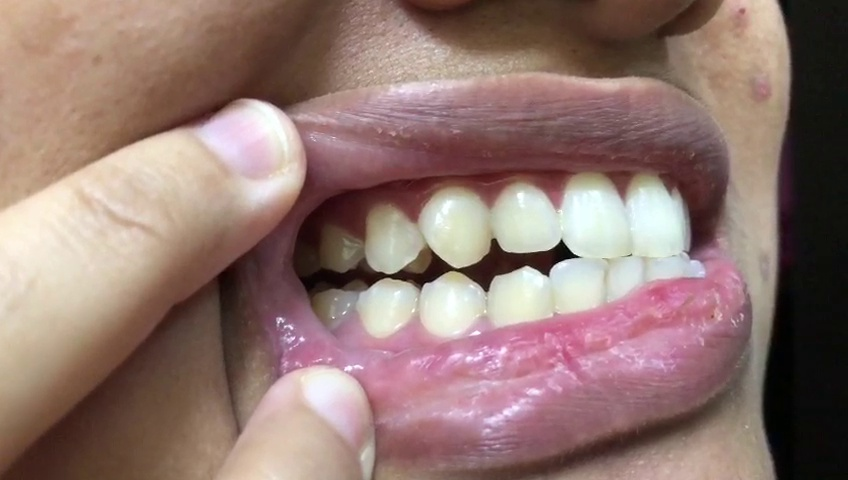1st Molar: (313, 285, 358, 329)
1st Premolar: (365, 201, 427, 273), (419, 272, 485, 339)
2nd Premolar: (357, 275, 420, 339), (315, 219, 364, 273)
Canine: (419, 183, 493, 266), (488, 266, 552, 329)
Central Incisor: (560, 167, 632, 256), (626, 169, 685, 257)
Lateral Incisor: (493, 179, 562, 252), (549, 253, 608, 316)
